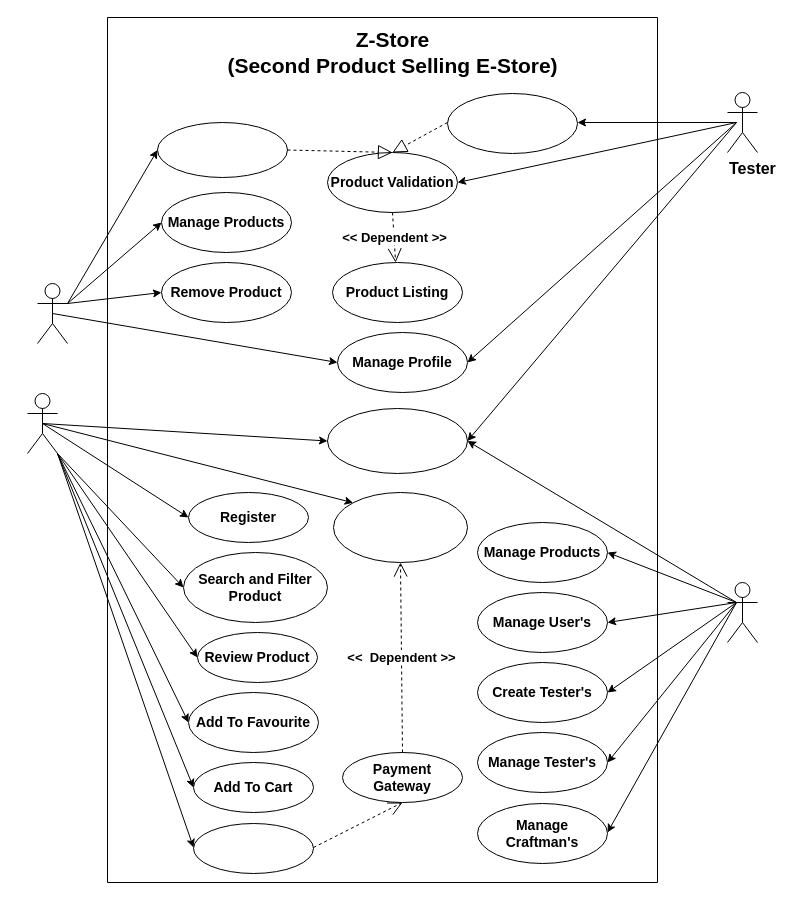
Some shapes in this 794 by 900 pixel diagram are drawn without their labels. Each missing label, with the centre of its shape:
"Add Product" goes at (222,150).
"Admin" goes at (742,612).
"Check Out" goes at (253,848).
"Craftman" goes at (52,313).
"Login" goes at (397,441).
"Product Review" goes at (512,123).
"Review Delivery Status" goes at (400,527).
"User" goes at (42,423).
